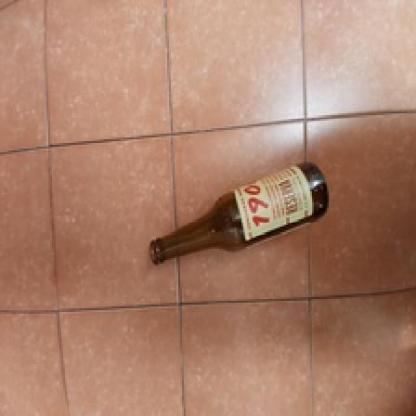Can: (148, 162, 330, 266)
